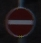No entry: (5, 5, 36, 38)
